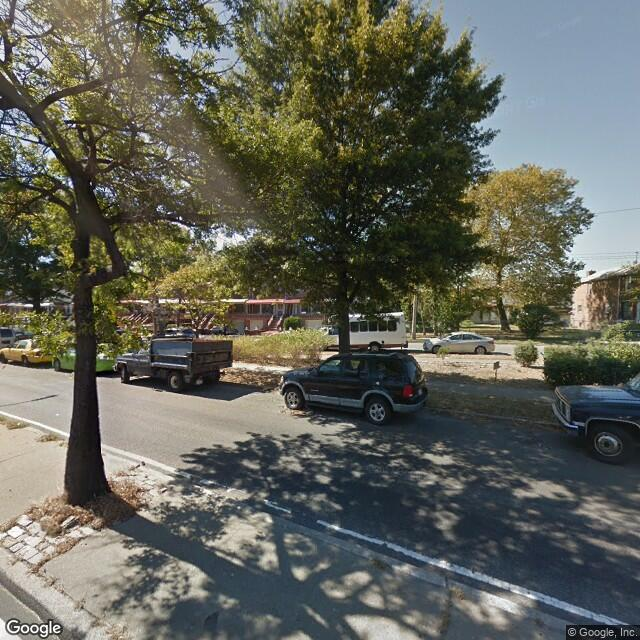litter: (9, 422, 26, 429)
